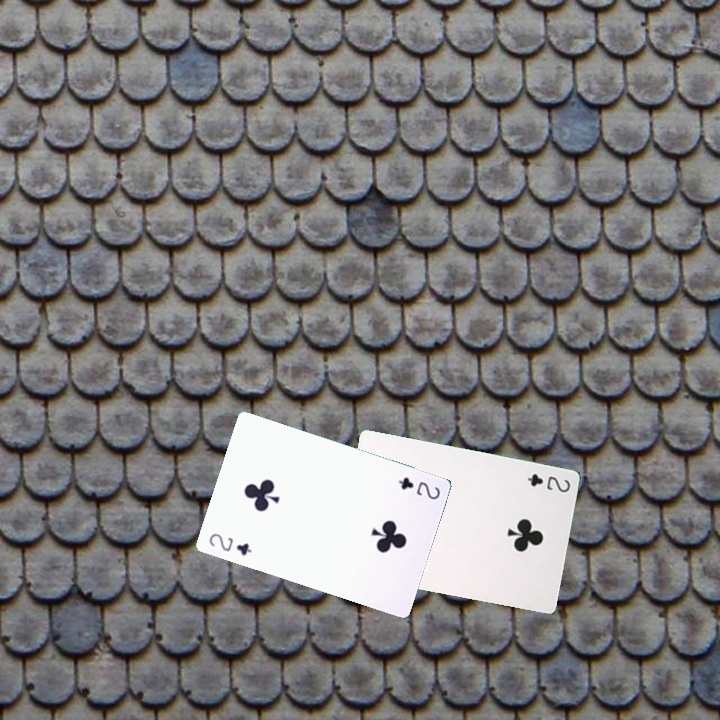2c: (205, 529, 254, 558), (394, 473, 443, 502), (523, 470, 573, 495)
